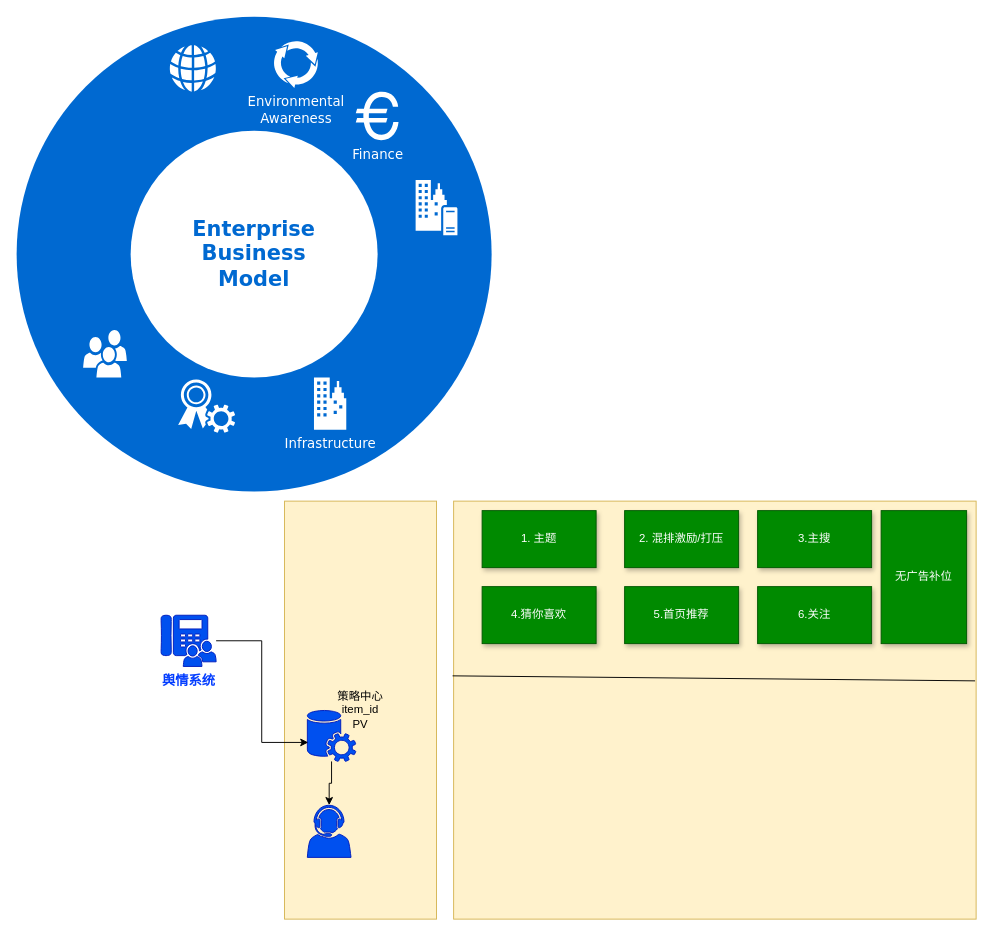
Image size: 993x936. Some labels were removed from this diagram. Each missing label, with the centre of its shape:
"Community" goes at pixel 104 353.
"Digital Development" goes at pixel 436 207.
"Global Partnerships" goes at pixel 192 68.
"Technology Certificates" goes at pixel 206 405.
"客诉排查机器人" goes at pixel 328 830.
"自动处理回复" goes at pixel 331 735.
